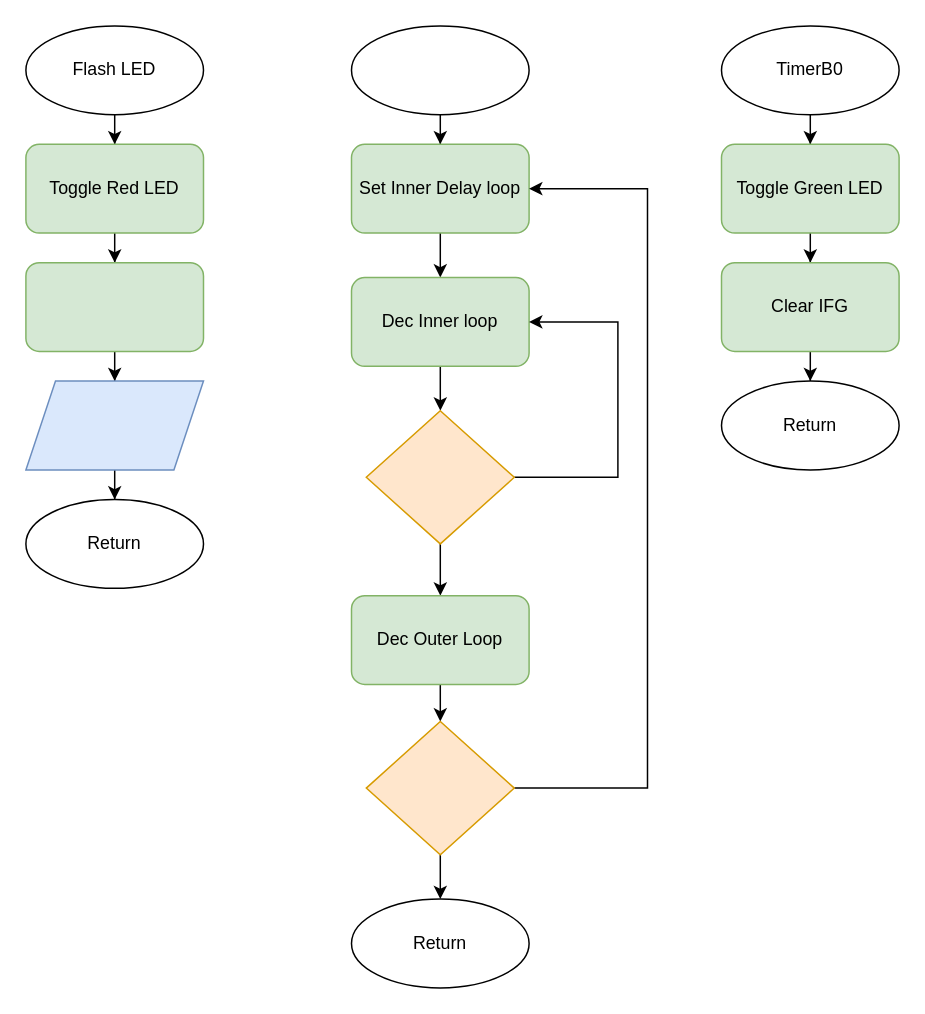
Image size: 925x1014. Some labels were removed from this diagram. The shapes that lost their labels are listed below. From the top down, each one's centre as x and y in pixels, then its label:
At (439,69): "D elay".
At (114,306): "Set Outer Delay Loop".
At (114,425): "Delay".
At (439,476): "Inner Loop = 0".
At (439,787): "Out Loop = 0".
